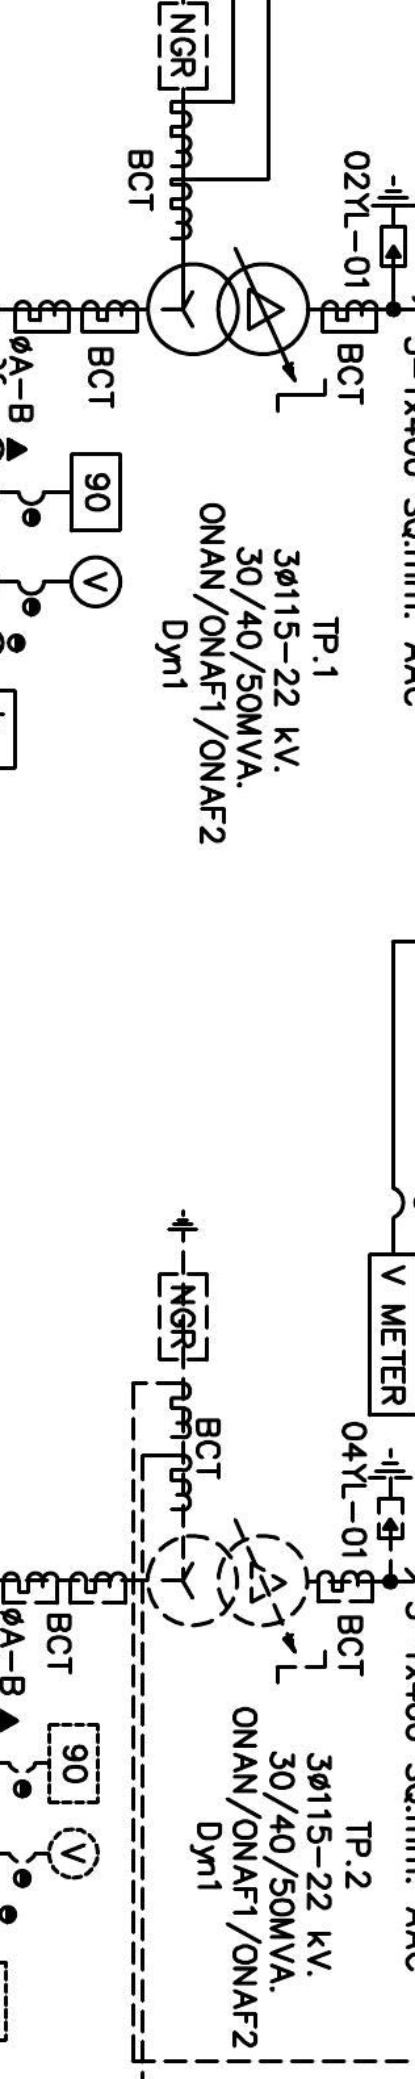11522_tx_dyn1: (145, 261, 311, 357)
v_m: (68, 553, 124, 610)
